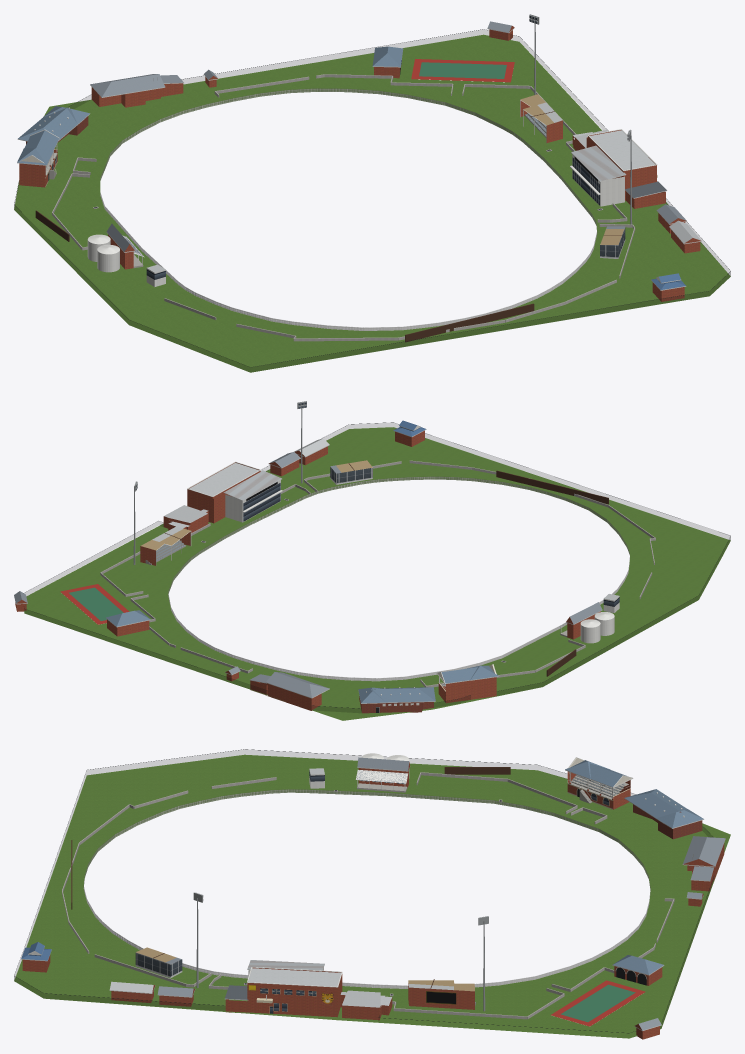
The model's file is albury_sports_ground.glb.
3 views of the same model, one above another, from view 1: azimuth 30°, elevation 25°; view 2: azimuth 150°, elevation 25°; view 3: azimuth 270°, elevation 25° (orthographic). The views are drawn at different scales.
Parts seen in each view (by area): view 1: apron, fences, club, retaining_walls, grandstand, north_hall, north_hall_leanto, nw_wing, east_stand, tanks, ne_bldg, west_bldg (+3 smaller); view 2: apron, fences, club, retaining_walls, grandstand, nw_wing, north_hall, north_hall_leanto, east_stand, ne_bldg, tanks, se_stand (+5 smaller); view 3: apron, fences, club, retaining_walls, grandstand, nw_wing, east_stand, west_bldg, north_hall_leanto, north_hall, club_n, se_stand (+5 smaller).
Part boxes in pixels (box(x1,y1,x2,y2)): apron: box(14, 34, 730, 372); fences: box(14, 29, 730, 371); club: box(570, 129, 667, 208); retaining_walls: box(52, 74, 635, 341); grandstand: box(17, 129, 59, 187); north_hall: box(90, 74, 165, 107); north_hall_leanto: box(34, 60, 602, 342); nw_wing: box(17, 106, 90, 148); east_stand: box(520, 94, 562, 143); tanks: box(87, 234, 119, 272); ne_bldg: box(372, 46, 403, 78); west_bldg: box(106, 223, 144, 269); apron: box(24, 427, 730, 720); fences: box(24, 422, 730, 712); club: box(187, 461, 282, 523); retaining_walls: box(100, 460, 655, 687); grandstand: box(436, 664, 498, 703); nw_wing: box(358, 687, 435, 713); north_hall: box(265, 672, 329, 710); north_hall_leanto: box(201, 470, 608, 712); east_stand: box(140, 526, 191, 565); ne_bldg: box(106, 610, 150, 636); tanks: box(580, 612, 614, 643); se_stand: box(330, 460, 372, 484); apron: box(14, 754, 730, 1038); fences: box(14, 749, 713, 1033); club: box(224, 960, 342, 1017); retaining_walls: box(62, 772, 674, 1019); grandstand: box(565, 757, 633, 809); nw_wing: box(624, 789, 704, 839); east_stand: box(408, 979, 475, 1009); west_bldg: box(356, 757, 410, 792); north_hall_leanto: box(71, 767, 713, 996); north_hall: box(682, 836, 725, 880); club_n: box(340, 990, 380, 1020); se_stand: box(135, 947, 182, 978).
Size of the model in its own units: 205 by 31.5 by 218.
32 materials, 32 textured.
